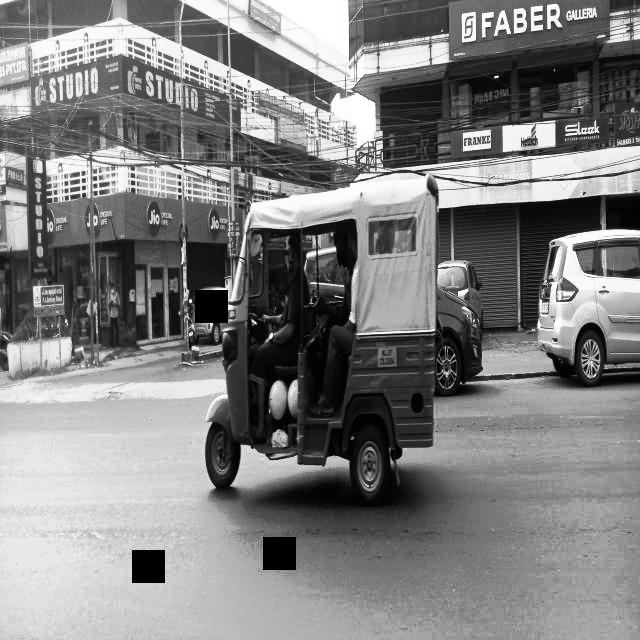Auto-Rickshaw: (204, 166, 435, 506)
